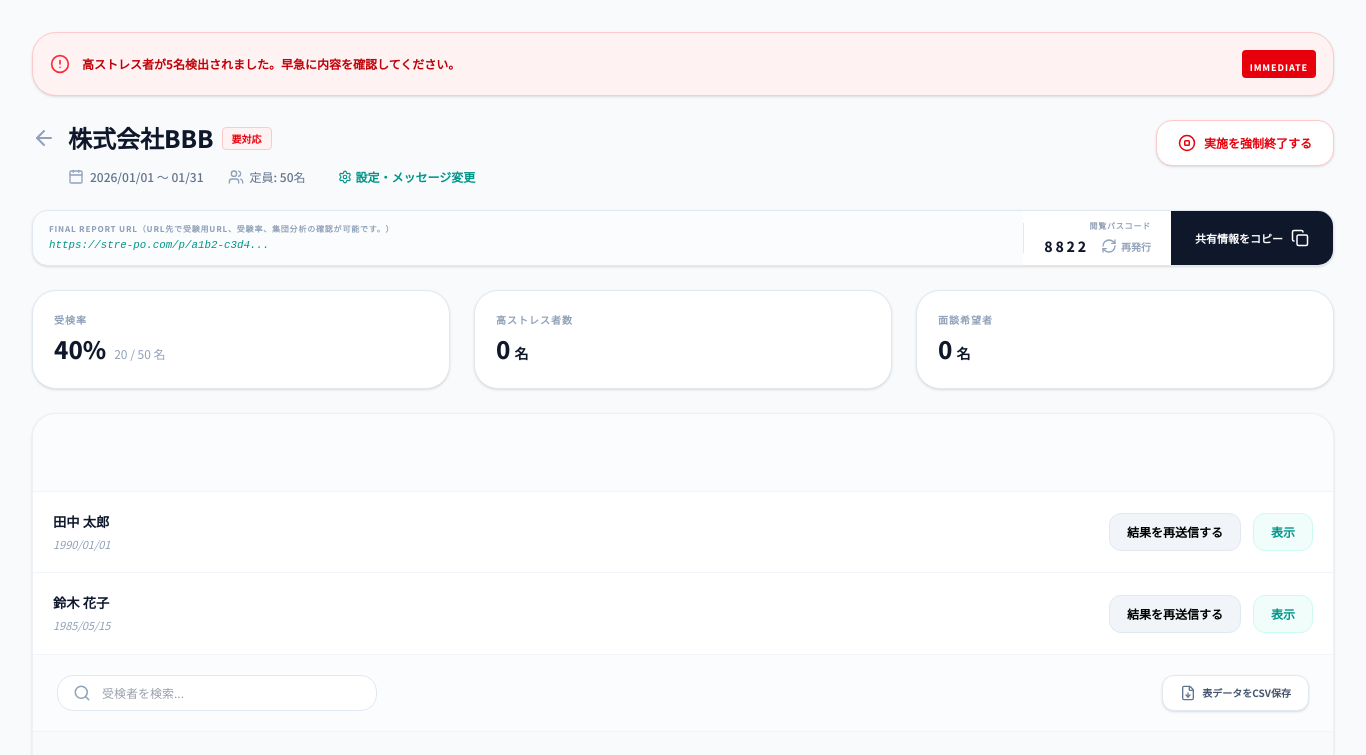
it: ClientDetail › 検索でリストがフィルタリングされる
In the field with placeholder "受検者を検索...": (217, 693) [57,675,377,711], type "田中"
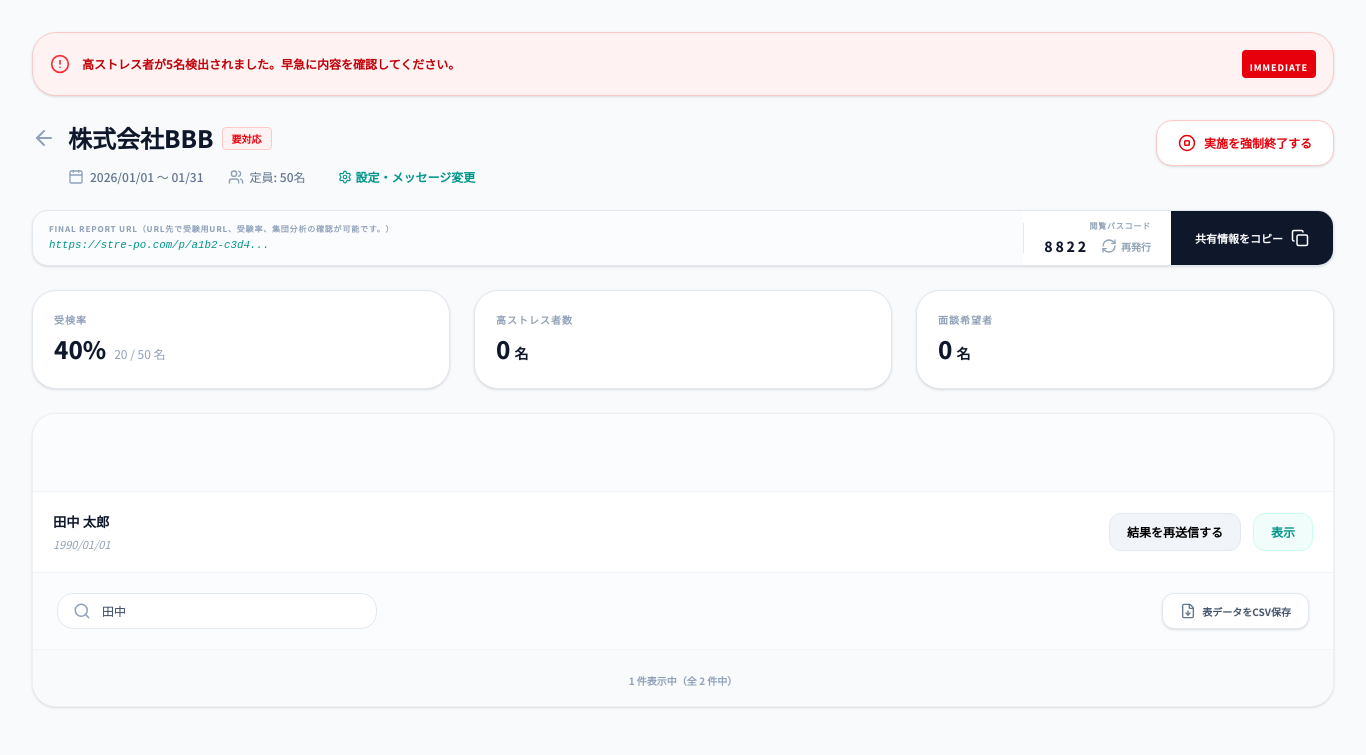
Expected: the text "田中 太郎" is shown, [53,512,109,532]
Expected: the text "鈴木 花子" is gone
